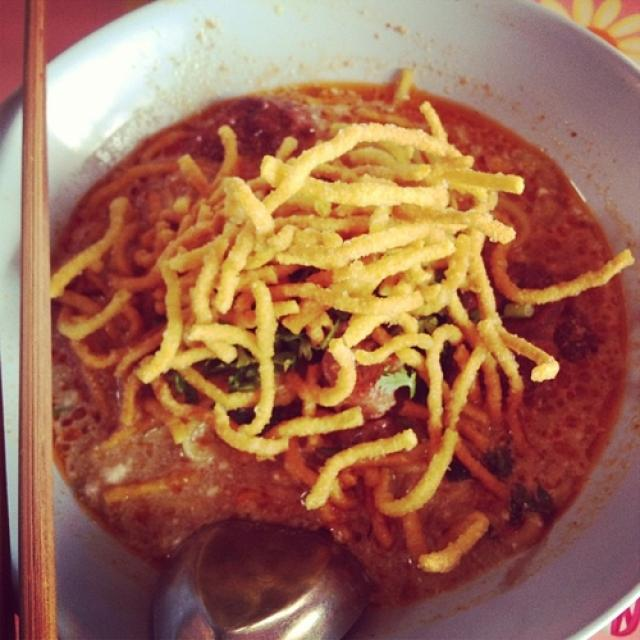面条主食: (33, 35, 630, 604)
